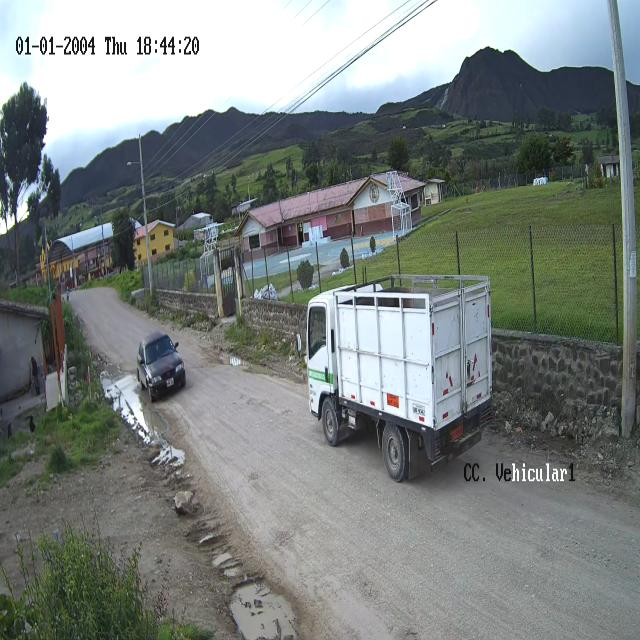SED: (137, 328, 188, 404)
TRUCK: (302, 276, 494, 484)
